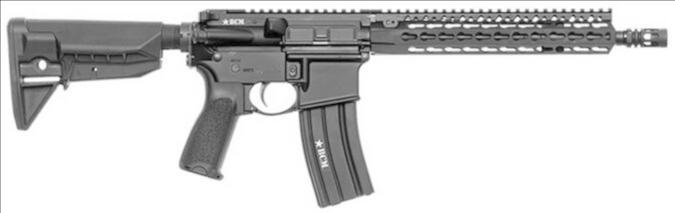gun: (3, 4, 665, 209)
